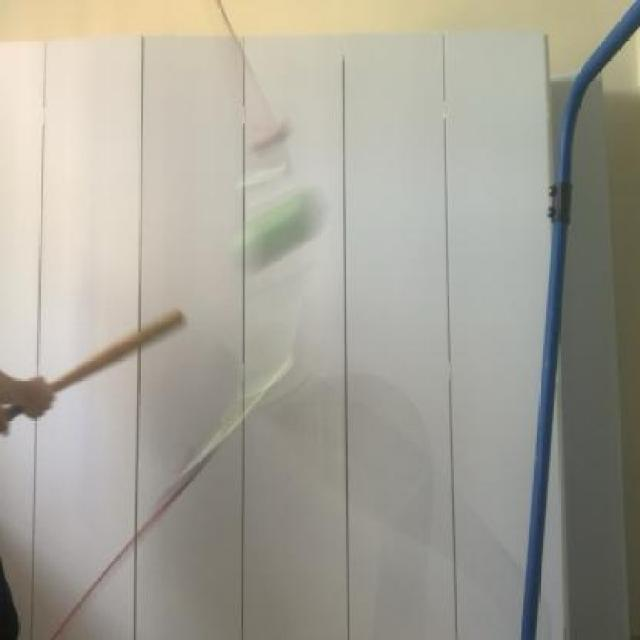baseball: (233, 177, 332, 286)
